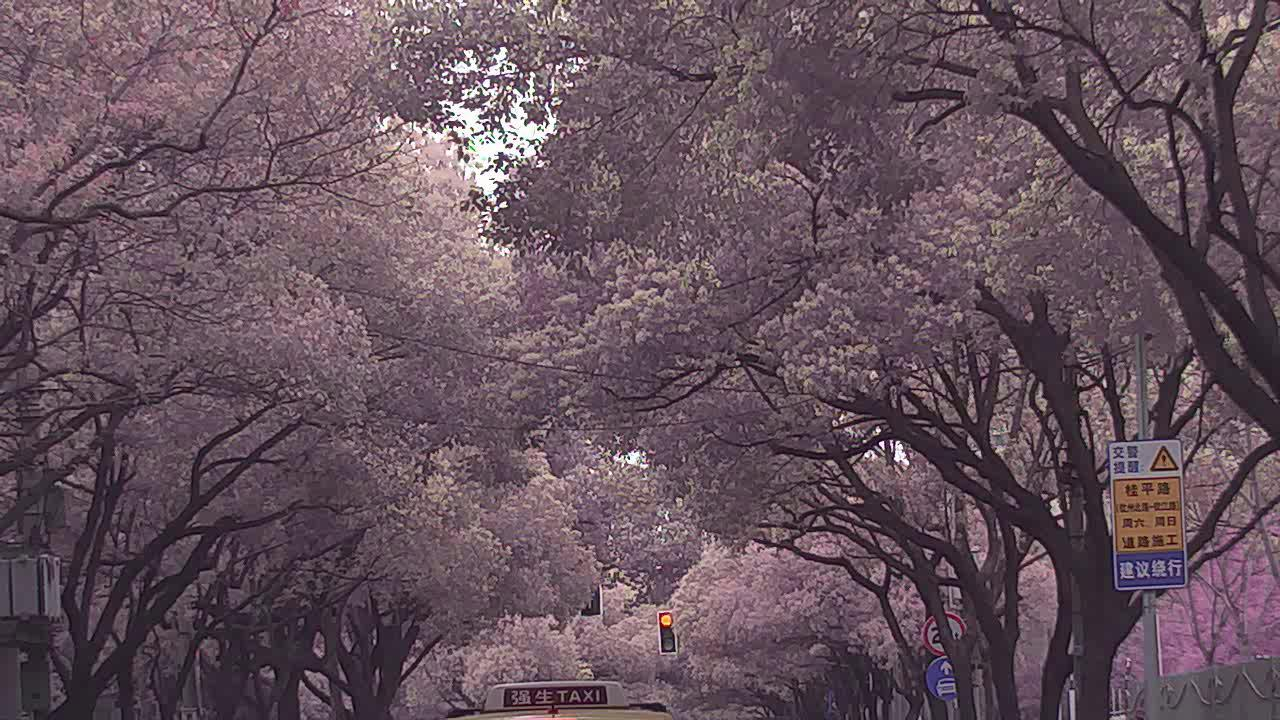traffic_light: (658, 612, 678, 656)
